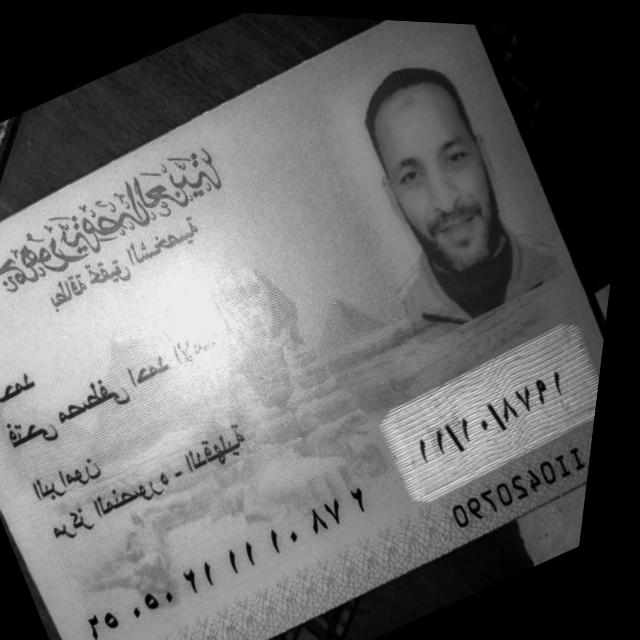id_card: (0, 20, 604, 640)
